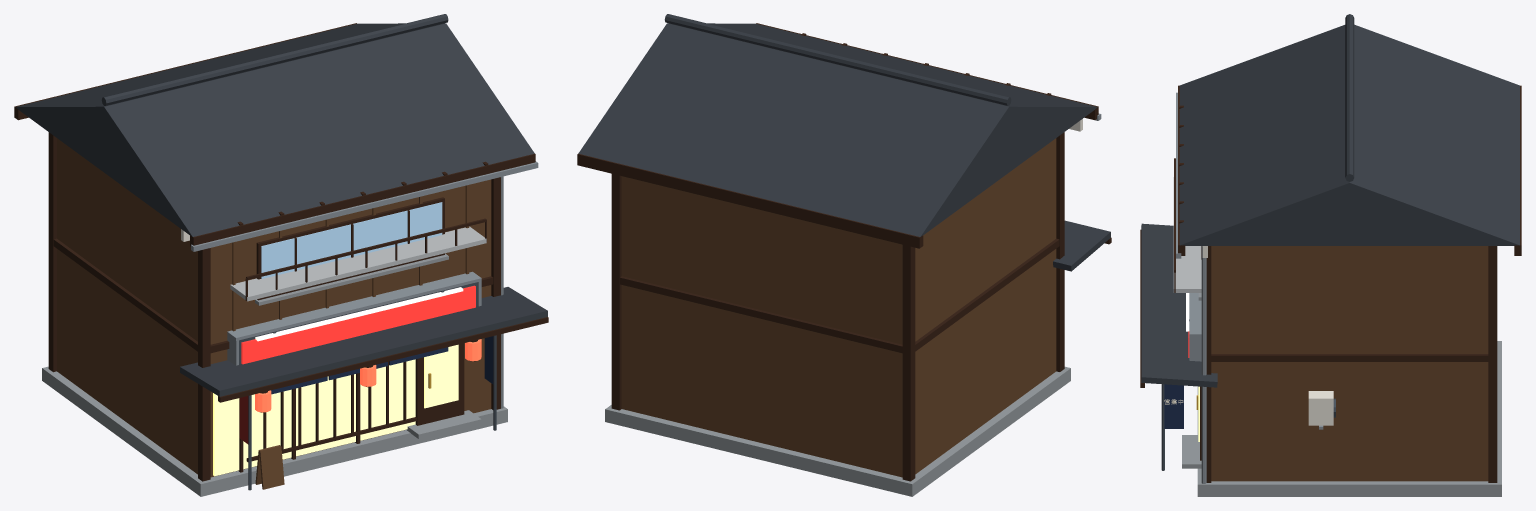
Rendered from shop_izakaya_2f.glb.
3 views of the same model, side by side, from view 1: azimuth 30°, elevation 25°; view 2: azimuth 150°, elevation 25°; view 3: azimuth 270°, elevation 25° (orthographic). The views are drawn at different scales.
Parts seen in each view (by area): view 1: roof.004, body.009, shop_glass.009, eave.004, base.009, win_glass.018, sign_face.009, balcony_slab.018, ridge.004, eave_front.004, sign_rim_top.008, post.036 (+16 smaller); view 2: body.009, roof.004, base.009, eave_back.004, beam.025, ridge.004, post.037, post.039, post.036, eave.004; view 3: roof.004, body.009, eave.004, base.009, post.039, beam.025, ridge.004, post.038, downpipe.004, balcony_slab.018, ac_body.012, nobori_flag.009 (+2 smaller).
Boxes of the visible parts, x1,y1,x2,y2 form: roof.004: (15,23,534,236); body.009: (57,138,491,477); shop_glass.009: (213,359,415,476); eave.004: (180,287,547,396); base.009: (42,366,507,496); win_glass.018: (261,202,442,278); sign_face.009: (241,285,475,364); balcony_slab.018: (230,226,486,301); ridge.004: (101,14,448,105); eave_front.004: (190,153,535,246); sign_rim_top.008: (227,271,481,340); post.036: (198,248,210,481); body.009: (621,138,1056,477); roof.004: (578,23,1097,236); base.009: (605,366,1070,496); eave_back.004: (577,153,923,248); beam.025: (620,238,1059,353); ridge.004: (664,14,1011,105); post.037: (902,245,915,481); post.039: (611,174,621,410); post.036: (1056,132,1064,371); eave.004: (1053,220,1110,271); roof.004: (1179,24,1519,245); body.009: (1211,246,1488,481); eave.004: (1141,223,1217,387); base.009: (1197,341,1501,496); post.039: (1488,246,1497,482); beam.025: (1211,354,1488,361); ridge.004: (1345,14,1354,181); post.038: (1206,246,1211,482); downpipe.004: (1201,246,1206,483); balcony_slab.018: (1173,177,1201,292); ac_body.012: (1308,391,1333,425); nobori_flag.009: (1164,384,1183,428).
Size of the model in its own units: 8.5 by 8.15 by 8.5.
